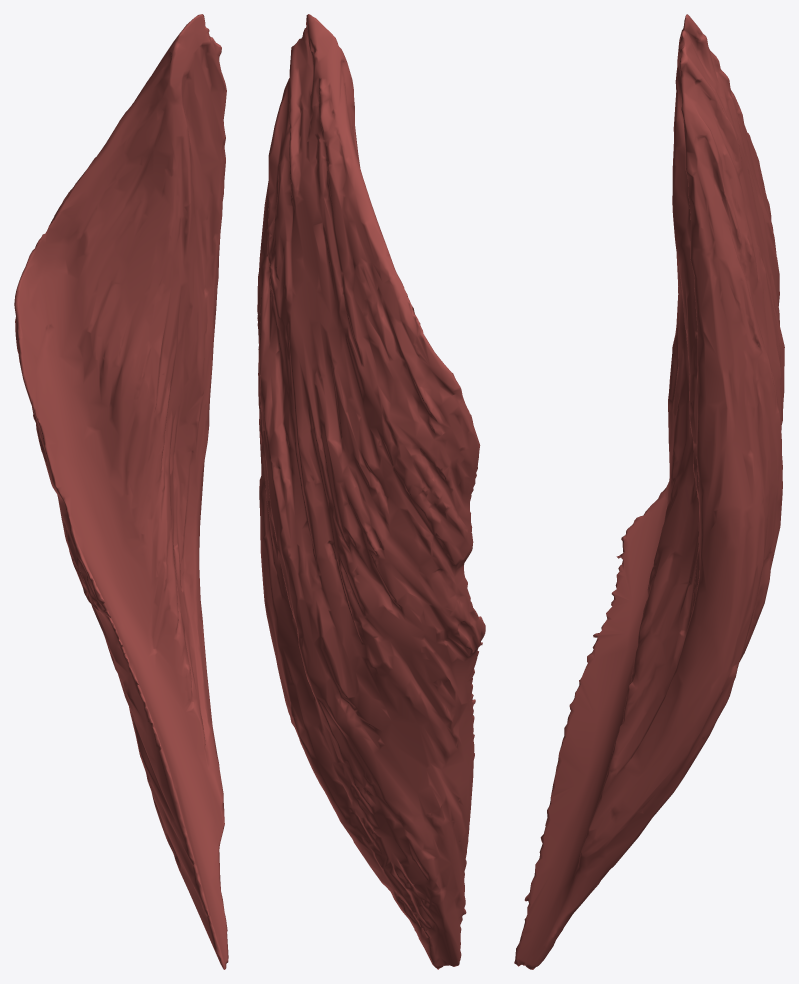
Rendered from FMA37706.glb.
3 renders of one model, left to right at view 1: azimuth 30°, elevation 25°; view 2: azimuth 150°, elevation 25°; view 3: azimuth 270°, elevation 25°, orthographic. The views are drawn at different scales.
Visible parts, largest first — view 1: FMA37706; view 2: FMA37706; view 3: FMA37706.
Boxes of the visible parts, <box> form: FMA37706: <box>14,14,228,969</box>; FMA37706: <box>257,14,485,969</box>; FMA37706: <box>514,14,784,969</box>.
Bounding box in the file's own units: 0.0231 × 0.101 × 0.0253.
